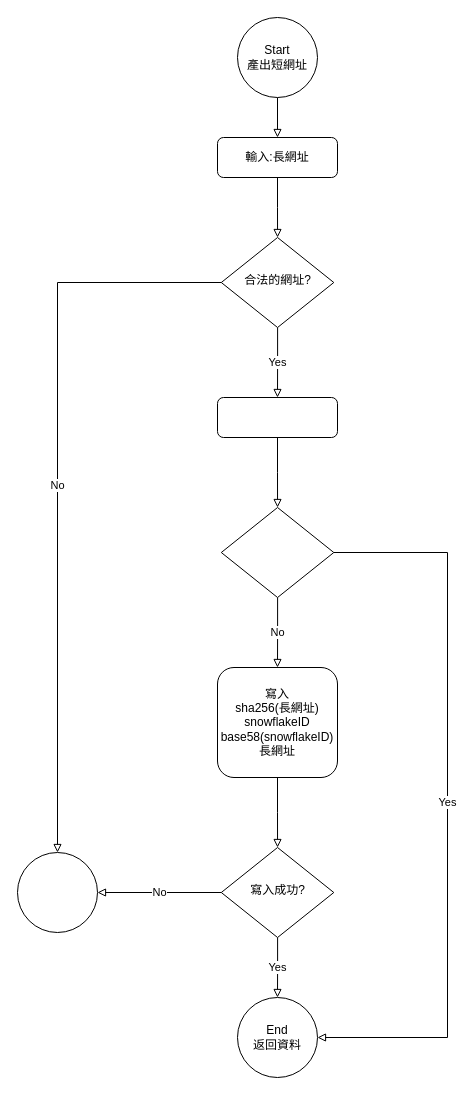
Some shapes in this 474 by 1095 pixel diagram are drawn without their labels. Each missing label, with the centre of its shape:
End 返回錯誤: the point at 57,892
sha256(長網址): the point at 277,417
存在於資料庫?: the point at 277,552
